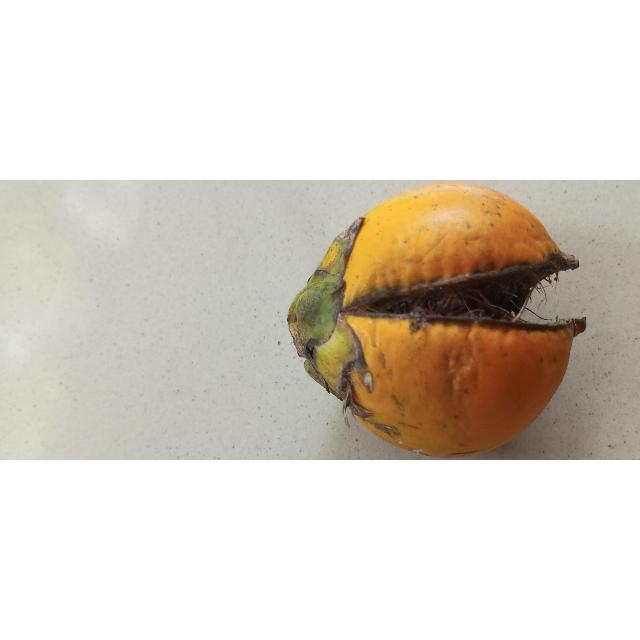damaged: (289, 183, 588, 460)
